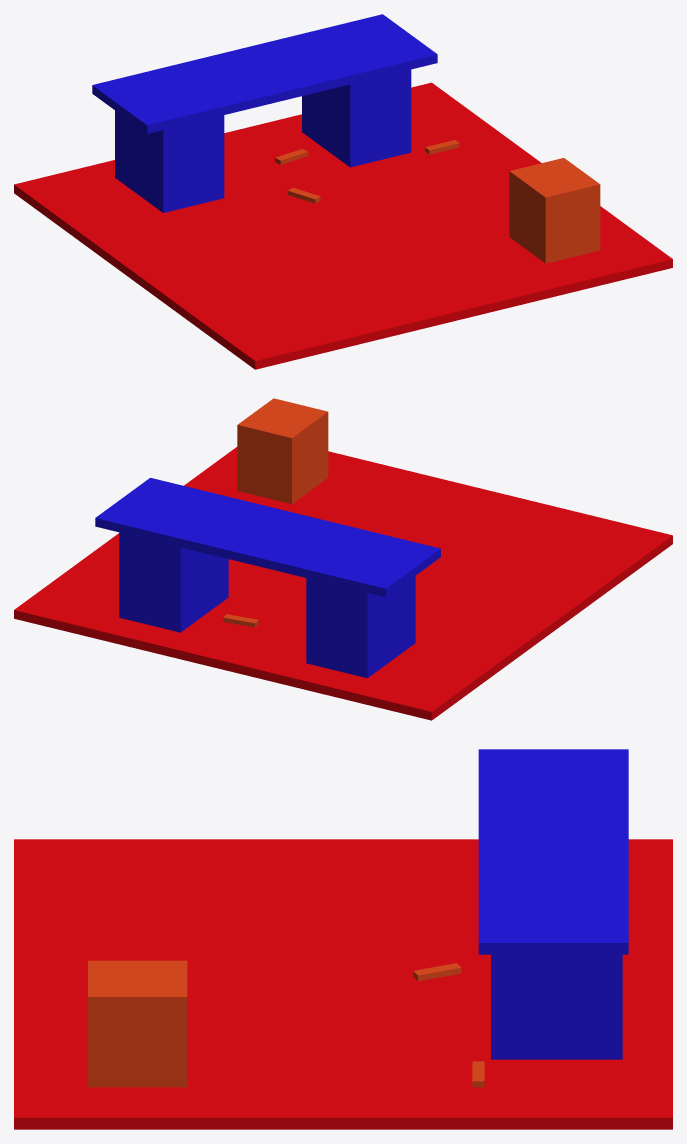
The model's file is POC.glb.
The picture shows the model from 3 angles, top to bottom: view 1: azimuth 30°, elevation 25°; view 2: azimuth 150°, elevation 25°; view 3: azimuth 270°, elevation 25°; orthographic projection. The views are drawn at different scales.
Visible parts, largest first — view 1: Sol, Bureau, Pot_de_plante; view 2: Sol, Bureau, Pot_de_plante; view 3: Sol, Bureau, Pot_de_plante, Crayon.001.
Part boxes in pixels (x1=…): Sol: x1=14, y1=82, x2=672, y2=369; Bureau: x1=92, y1=14, x2=437, y2=212; Pot_de_plante: x1=509, y1=158, x2=600, y2=263; Sol: x1=14, y1=447, x2=672, y2=720; Bureau: x1=95, y1=477, x2=440, y2=678; Pot_de_plante: x1=237, y1=398, x2=328, y2=503; Sol: x1=14, y1=839, x2=672, y2=1129; Bureau: x1=478, y1=749, x2=628, y2=1059; Pot_de_plante: x1=88, y1=960, x2=187, y2=1087; Crayon.001: x1=413, y1=963, x2=461, y2=981.
Bounding box in the file's own units: 10 × 2.4 × 10.
